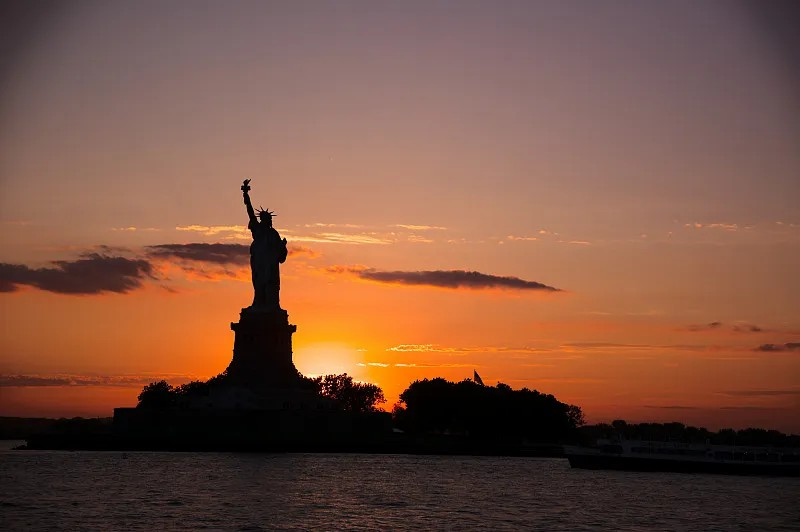SL: (227, 179, 297, 371)
